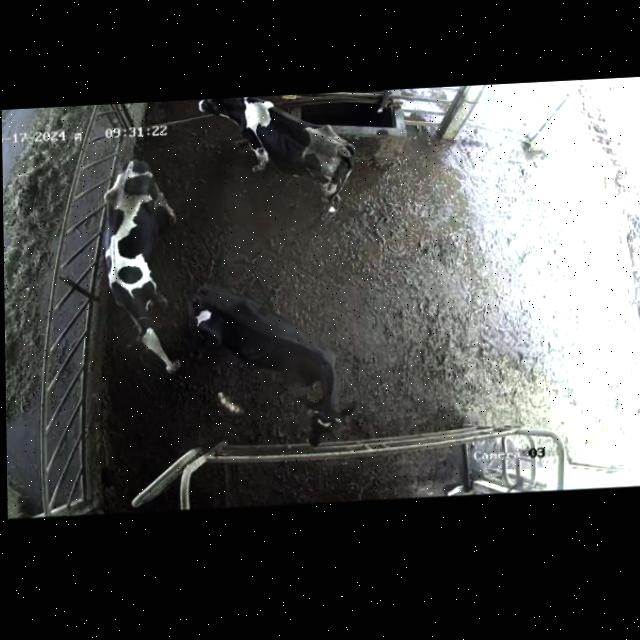stand: (189, 250, 359, 456), (189, 89, 365, 231), (96, 150, 186, 388)
